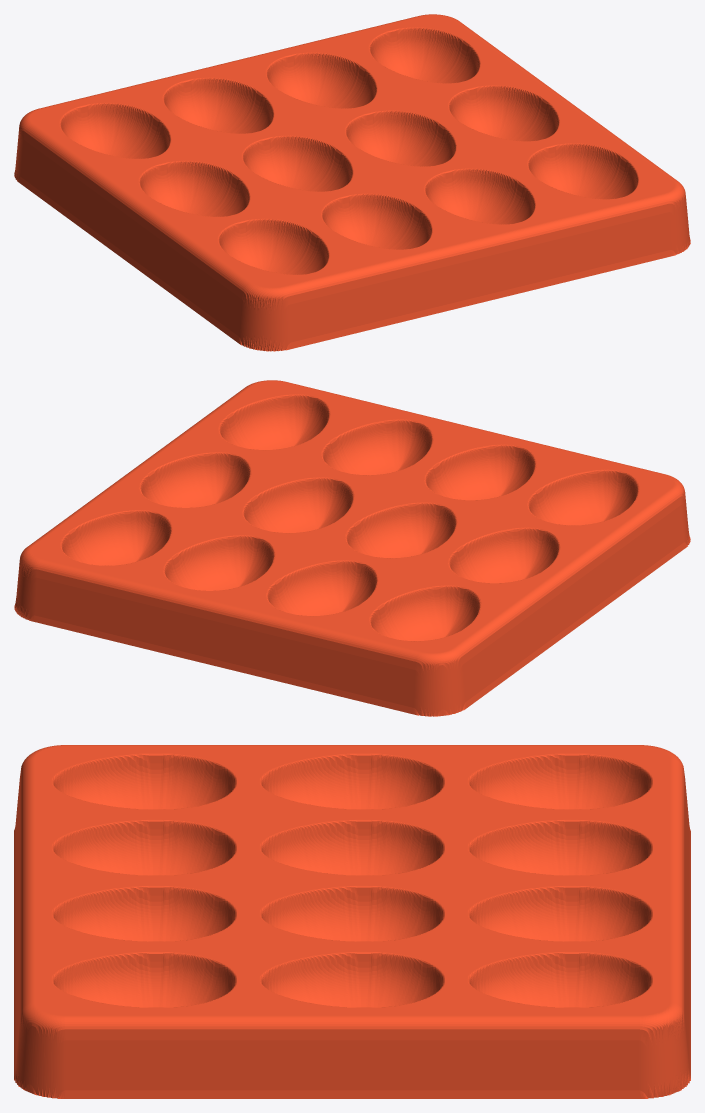
The model's file is mold.glb.
The picture shows the model from 3 angles, top to bottom: view 1: azimuth 30°, elevation 25°; view 2: azimuth 150°, elevation 25°; view 3: azimuth 270°, elevation 25°; orthographic projection. The views are drawn at different scales.
Visible parts, largest first — view 1: geometry_0; view 2: geometry_0; view 3: geometry_0.
Boxes of the visible parts, <box> form: geometry_0: <box>14,14,690,351</box>; geometry_0: <box>14,380,690,716</box>; geometry_0: <box>14,745,690,1098</box>.
Size of the model in its own units: 0.1195 by 0.0145 by 0.1192.
